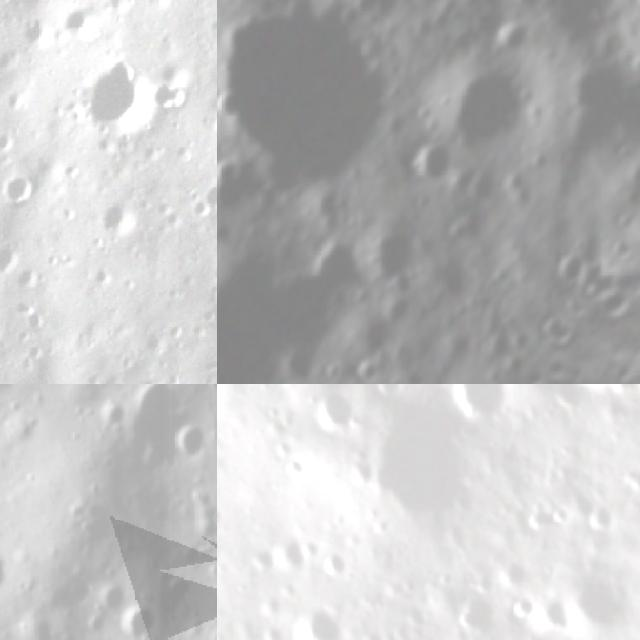crater: (217, 0, 446, 236), (394, 19, 558, 181), (217, 214, 344, 384), (338, 198, 444, 304), (68, 57, 170, 144), (106, 384, 174, 465), (404, 128, 468, 192), (547, 239, 602, 295), (92, 192, 143, 237), (450, 384, 510, 421), (12, 7, 62, 51), (163, 419, 206, 467), (314, 389, 351, 438), (295, 608, 351, 640), (110, 605, 159, 640), (163, 571, 203, 612), (54, 0, 102, 34), (91, 583, 133, 621), (350, 348, 390, 384), (0, 168, 35, 208), (217, 149, 247, 195), (502, 586, 536, 624), (579, 506, 625, 534), (320, 550, 354, 580), (19, 613, 56, 640), (194, 175, 217, 210), (623, 38, 640, 84), (544, 502, 569, 529), (284, 456, 306, 480), (379, 384, 401, 402), (637, 57, 640, 146)
